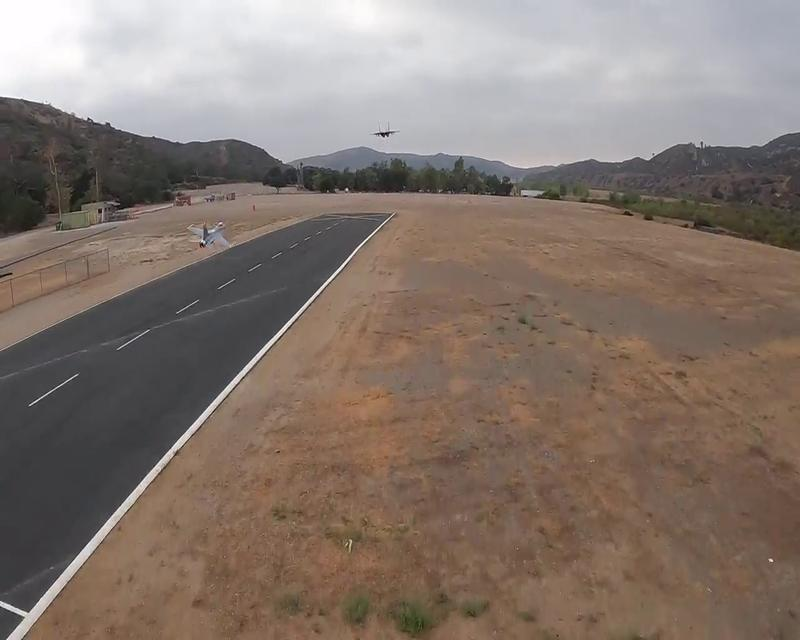UAV: (187, 222, 238, 251)
